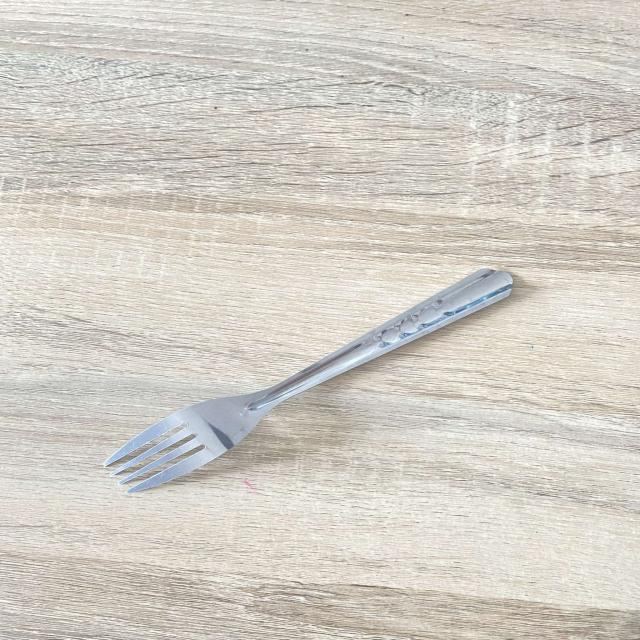fork: (98, 262, 521, 503)
